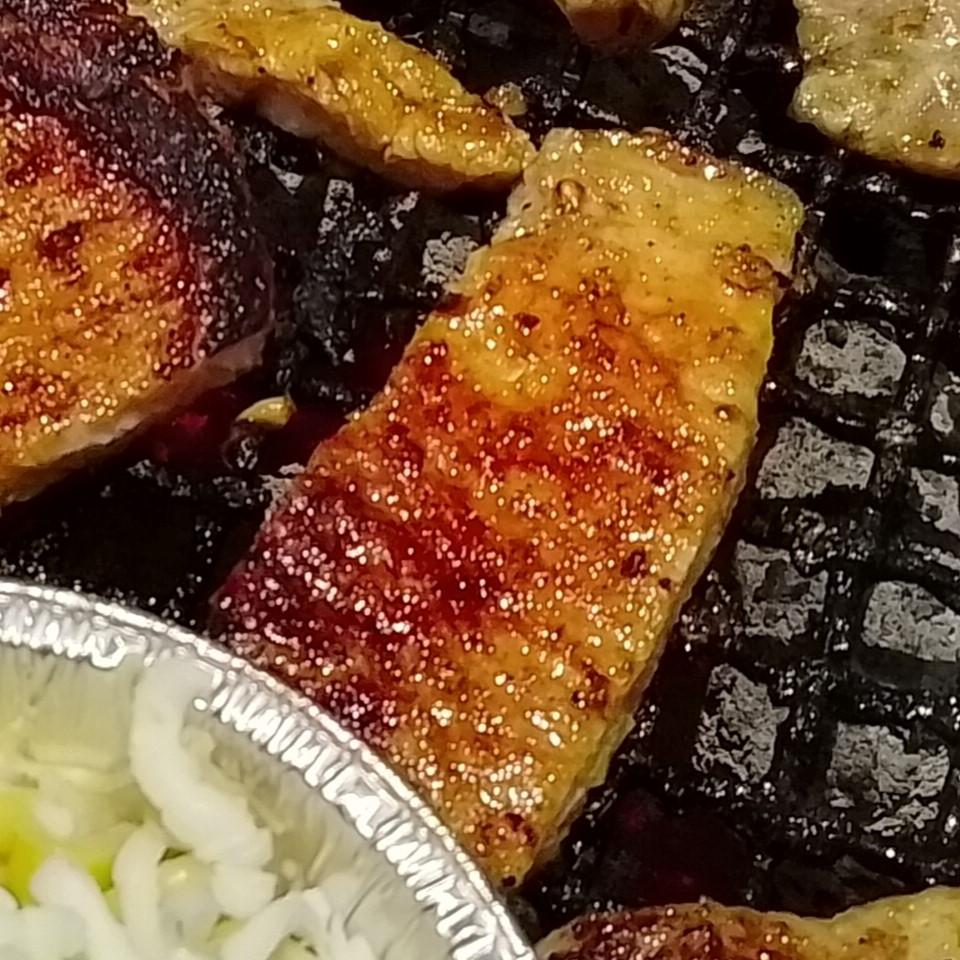Overcooked: (0, 0, 273, 505)
Well-Cooked: (214, 129, 802, 885)
